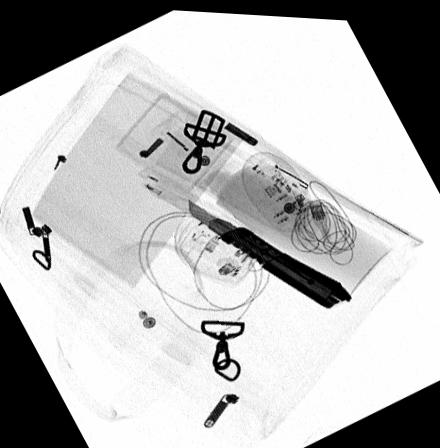Knife: (188, 195, 352, 304)
